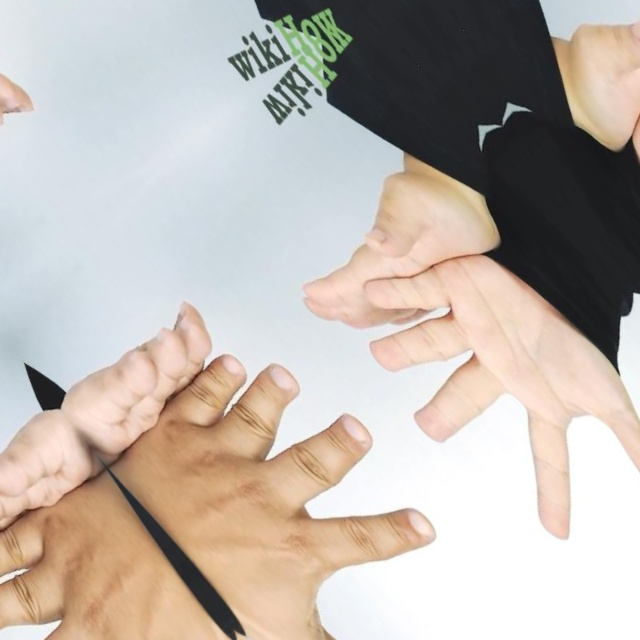Paper: (543, 0, 640, 478), (0, 0, 84, 177)
